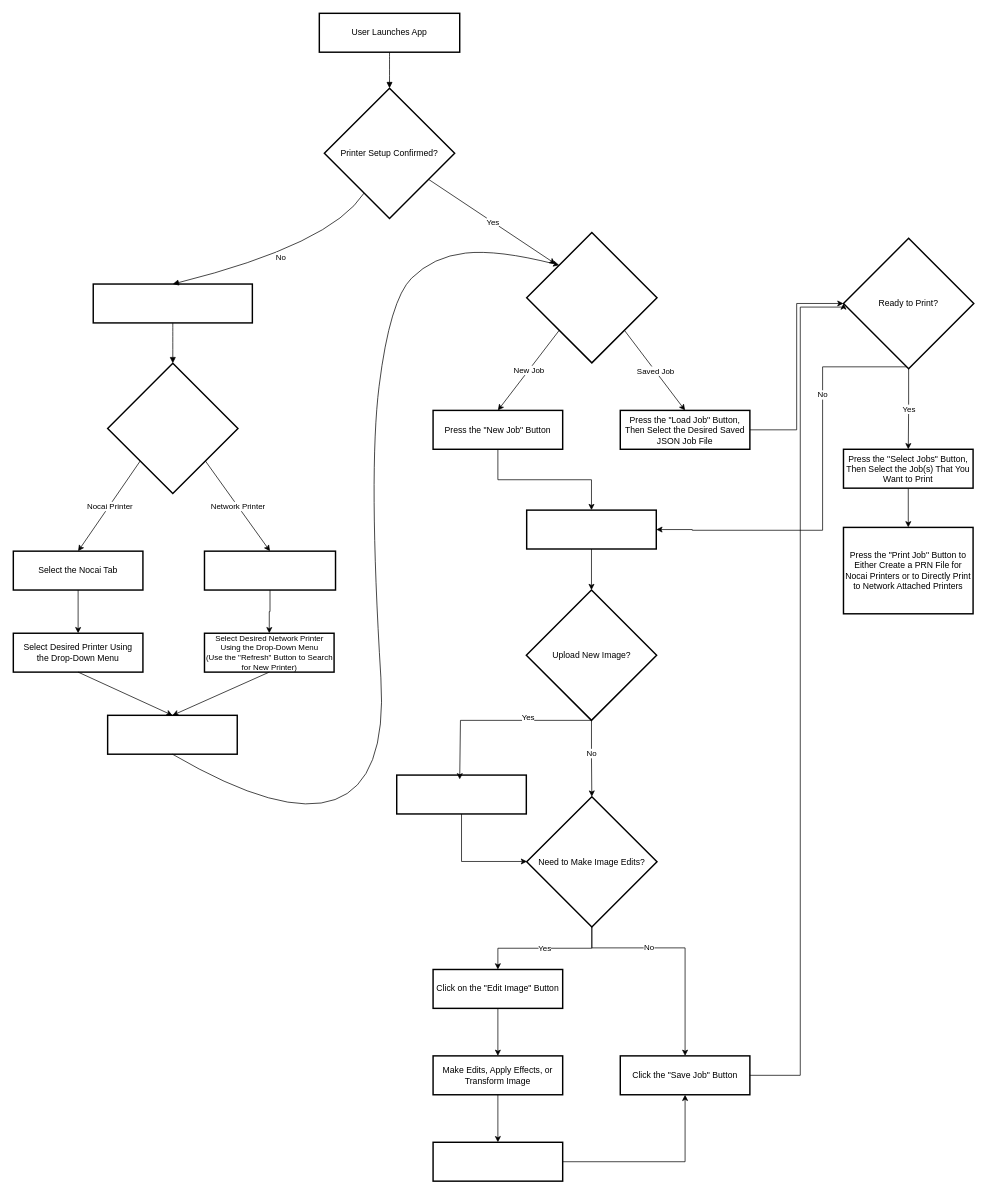
The diagram is 986 pixels wide and 1194 high, and some of its shapes have lost their labels. Each missing label, with the centre of its shape:
Click on the Desired Job to Edit Image and Other Job Settings: (591,529)
Click the "Printer Setup" Button: (172,303)
Click the "Save" Button to Save Changes Made to Image: (497,1161)
Click the "Upload Image" Button and Select the Desired Image: (461,794)
Create New Job or Load Saved Job: (591,297)
Press "Confirm" Button to Save Printer Settings: (172,734)
Select the Network Printer Tab: (269,570)
Using Nocai Printer or Network-Attached Printer?: (172,428)
